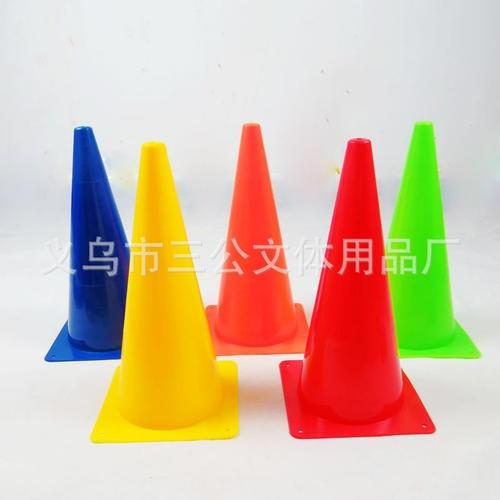cone_barrel: (295, 144, 422, 433), (102, 150, 228, 441), (209, 129, 304, 356), (385, 126, 474, 356), (52, 132, 136, 354)
